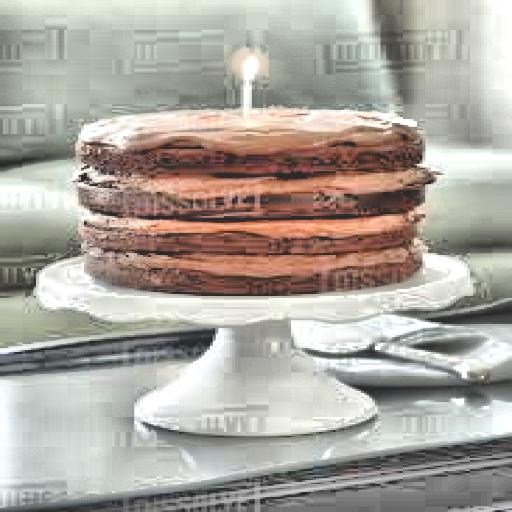fire: (230, 52, 260, 82)
